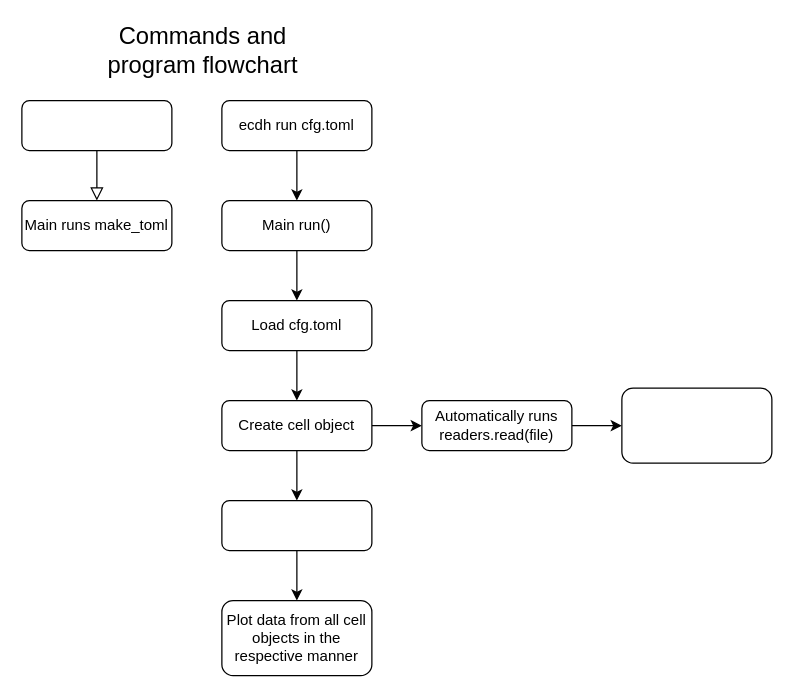
The diagram is 794 pixels wide and 698 high, and some of its shapes have lost their labels. The shapes that lost their labels are listed below. From the top down, each one's box as (x1, y1, x2, y2) in pixels, then its label:
(21, 99, 172, 151): ecdh init
(621, 387, 772, 463): Runs data gathering/calculations according to cfg.toml
(221, 499, 372, 551): Create plot object from cfg.toml
